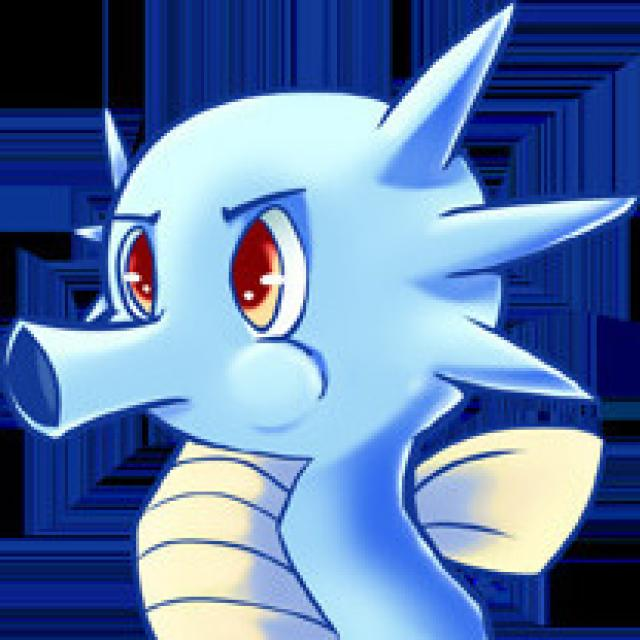Horsea: (6, 3, 620, 640)
